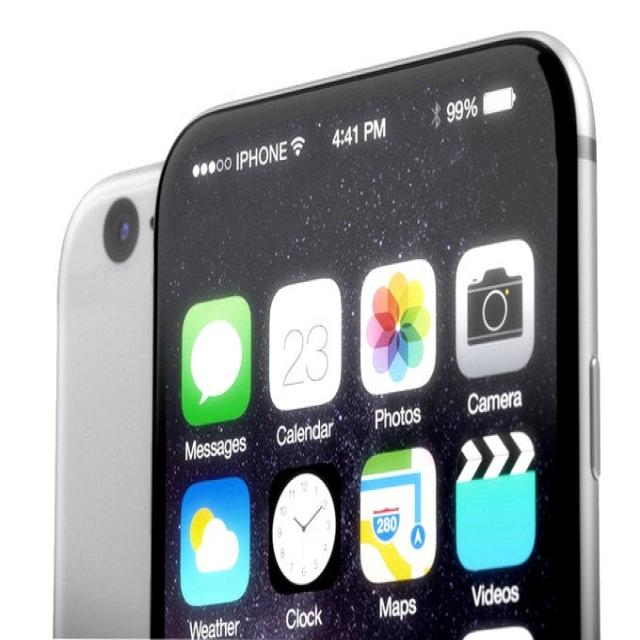mobile phone: (52, 28, 600, 637)
